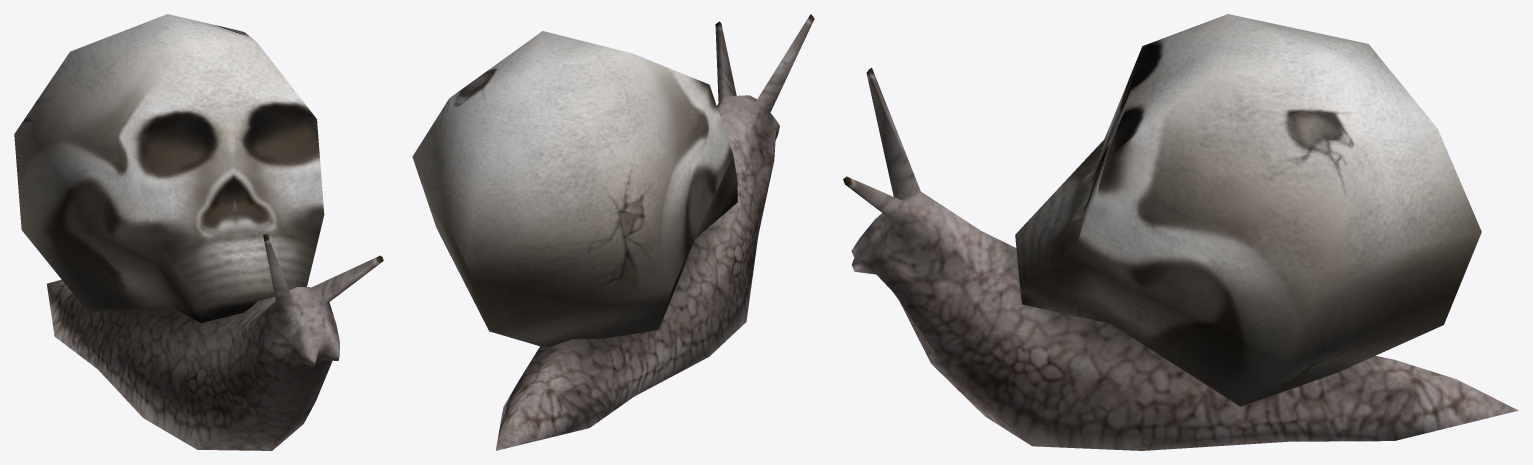
Rendered from dskrg.fbx.
The picture shows the model from 3 angles, left to right: view 1: azimuth 30°, elevation 25°; view 2: azimuth 150°, elevation 25°; view 3: azimuth 270°, elevation 25°; orthographic projection. The views are drawn at different scales.
Parts seen in each view (by area): view 1: dskrg_Mesh_001; view 2: dskrg_Mesh_001; view 3: dskrg_Mesh_001.
Boxes of the visible parts, left/top/right/bottom form: dskrg_Mesh_001: left=14, top=14, right=383, bottom=450; dskrg_Mesh_001: left=412, top=14, right=814, bottom=450; dskrg_Mesh_001: left=843, top=14, right=1518, bottom=450.
Size of the model in its own units: 8.46 by 9.76 by 15.33.
